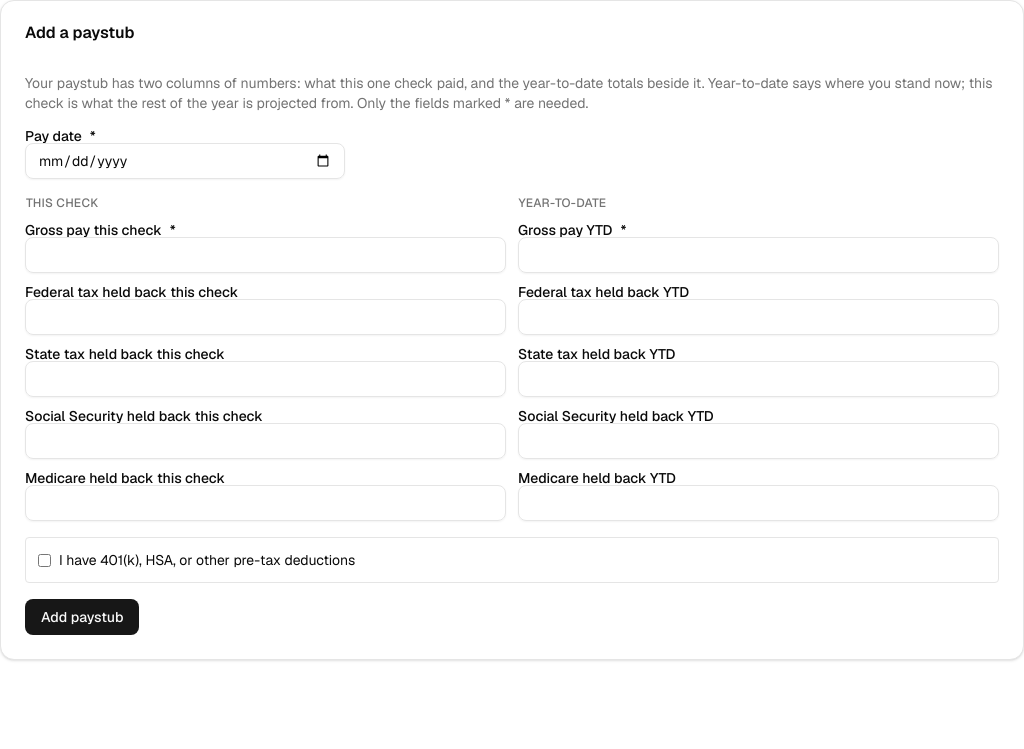
Test: PaystubForm › keeps the pre-tax fields out of the way until they apply
expect the field labelled "401(k) this check" is not shown: met
Click the checkbox labelled "I have 401(k), HSA, or other pre-tax deductions" at [44, 560], box [38,554,51,566]
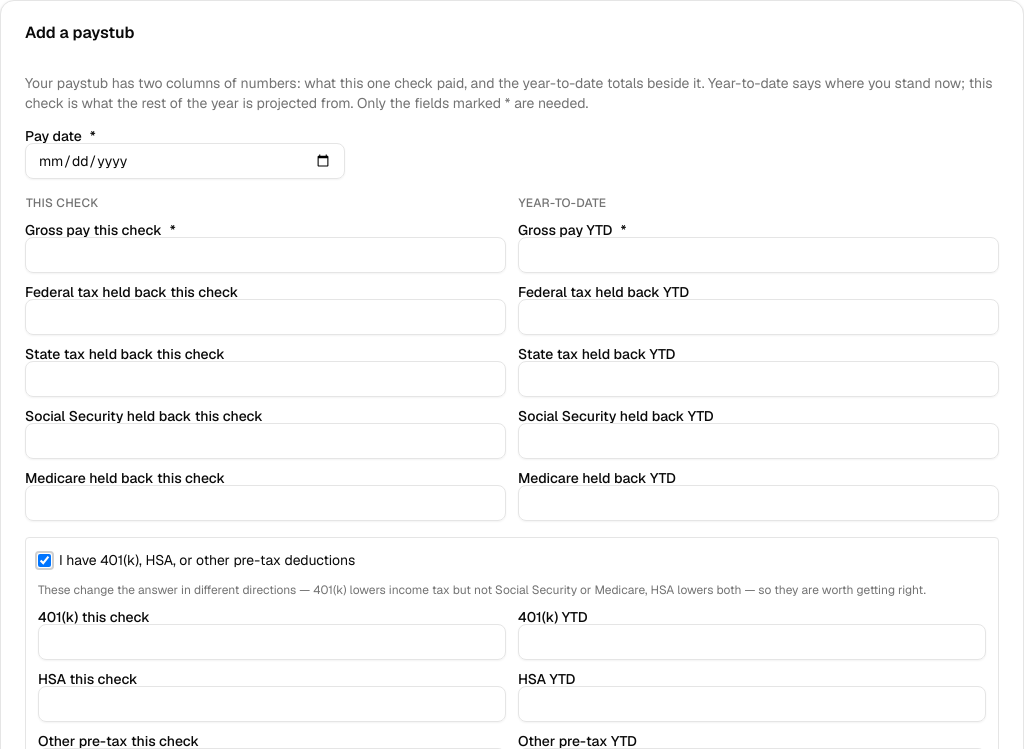
expect the number field labelled "401(k) this check" is shown: met, box [38,624,506,660]
expect the number field labelled "HSA YTD" is shown: met, box [518,686,986,722]
